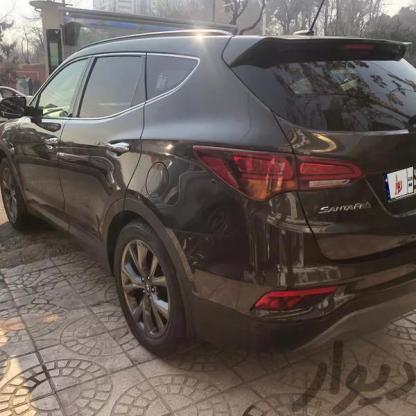Car: (0, 30, 416, 351)
